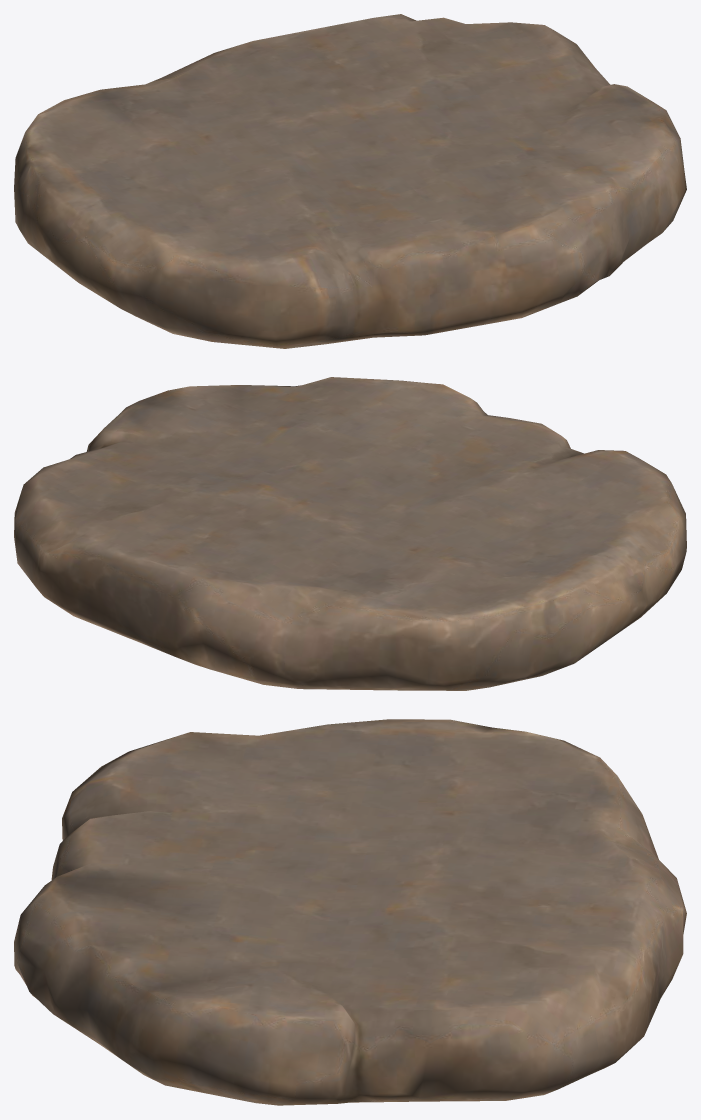
The model's file is gray_stepping_stone.glb.
3 views of the same model, one above another, from view 1: azimuth 30°, elevation 25°; view 2: azimuth 150°, elevation 25°; view 3: azimuth 270°, elevation 25° (orthographic). The views are drawn at different scales.
Parts seen in each view (by area): view 1: gray_stepping_stone; view 2: gray_stepping_stone; view 3: gray_stepping_stone.
Boxes of the visible parts, x1,y1,x2,y2 form: gray_stepping_stone: [14, 14, 686, 348]; gray_stepping_stone: [14, 377, 686, 690]; gray_stepping_stone: [14, 719, 686, 1105].
Bounding box in the file's own units: 0.5183 × 0.08 × 0.4552.
1 material, 1 textured.
